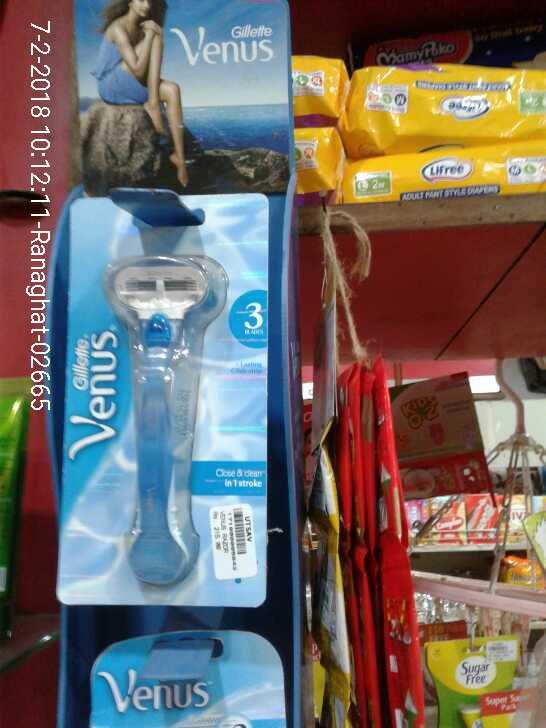venus: (71, 198, 268, 597)
